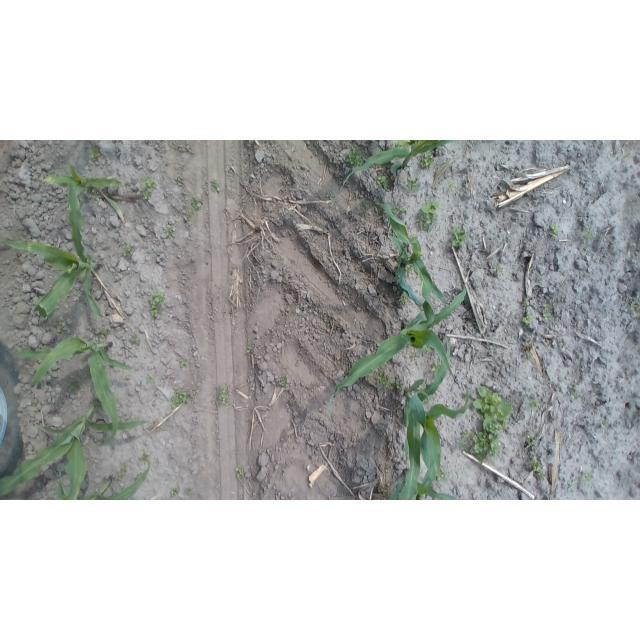Maize: (326, 277, 470, 411), (1, 181, 108, 319), (0, 403, 152, 499), (14, 333, 129, 444), (396, 334, 470, 500), (380, 202, 448, 314), (338, 141, 452, 192), (37, 163, 132, 224), (53, 460, 153, 501), (391, 472, 468, 500)
Weeds: (462, 383, 513, 468), (375, 371, 408, 397), (416, 200, 441, 232), (149, 289, 168, 319), (141, 175, 160, 203), (169, 387, 192, 409), (215, 382, 232, 410), (110, 463, 132, 484), (449, 227, 468, 250), (345, 147, 366, 167), (420, 150, 437, 172), (49, 317, 68, 336), (521, 428, 538, 447), (117, 244, 136, 261), (374, 173, 390, 191), (191, 195, 206, 214), (209, 180, 225, 197), (358, 200, 374, 217), (65, 380, 80, 397), (129, 330, 144, 347), (136, 451, 154, 465), (404, 178, 420, 193), (234, 465, 250, 479), (144, 372, 157, 389), (580, 229, 594, 244), (528, 396, 543, 410), (490, 263, 504, 277), (87, 147, 101, 161), (430, 361, 443, 376), (163, 226, 178, 239), (579, 472, 593, 485), (529, 458, 542, 472), (173, 173, 186, 186), (522, 351, 536, 363), (400, 293, 412, 307), (546, 224, 560, 236), (278, 374, 289, 389), (392, 204, 407, 215), (439, 473, 450, 487), (445, 179, 456, 193), (522, 315, 534, 327), (421, 344, 433, 356), (405, 262, 414, 278), (600, 420, 613, 431), (326, 192, 337, 205), (629, 302, 639, 316), (565, 481, 577, 492), (178, 358, 190, 369), (170, 487, 181, 499), (623, 151, 634, 162), (542, 312, 553, 323), (569, 388, 579, 400), (535, 471, 547, 481), (521, 297, 530, 310), (184, 487, 195, 497), (98, 328, 110, 337), (423, 395, 435, 404), (544, 492, 557, 500), (543, 303, 554, 312), (408, 352, 419, 361), (245, 342, 254, 353), (185, 208, 194, 218), (558, 340, 565, 345)
